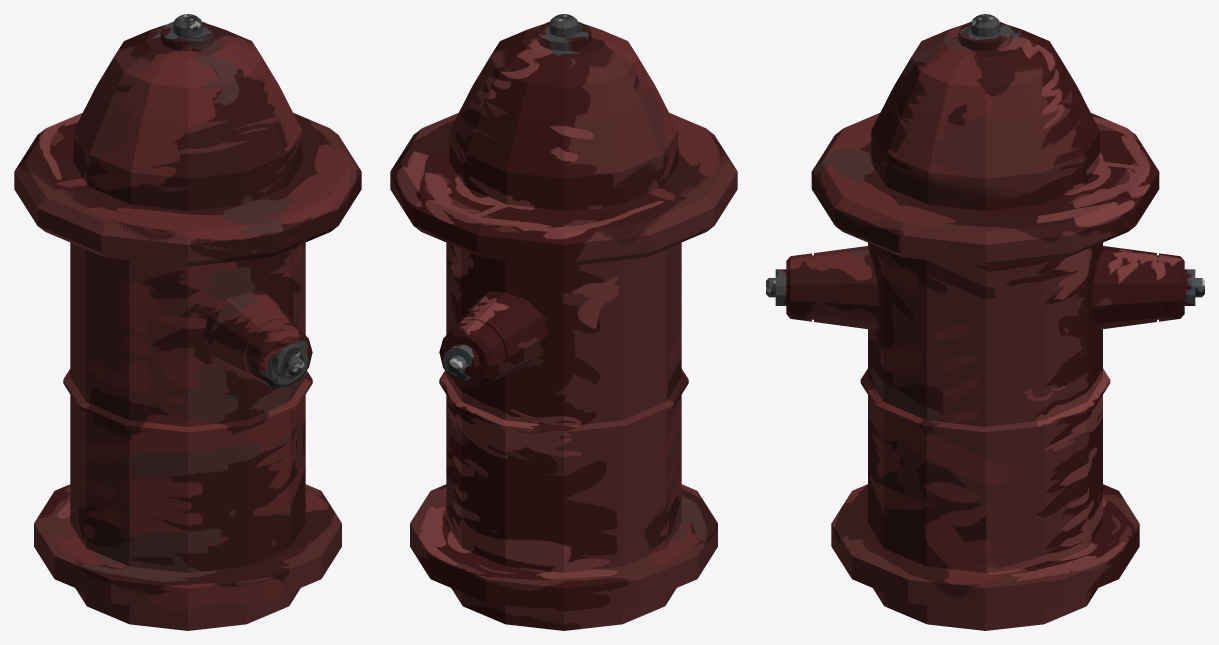
File: FireH.fbx
The picture shows the model from 3 angles, left to right: view 1: azimuth 30°, elevation 25°; view 2: azimuth 150°, elevation 25°; view 3: azimuth 270°, elevation 25°; orthographic projection.
Parts seen in each view (by area): view 1: Circle; view 2: Circle; view 3: Circle.
Part boxes in pixels (box(x1,y1,x2,y2)): Circle: box(14, 14, 361, 630); Circle: box(390, 14, 737, 630); Circle: box(766, 14, 1204, 630).
Bounding box in the file's own units: 42.82 × 76.61 × 54.08.
